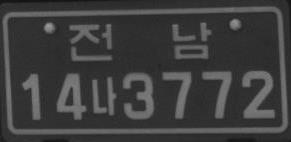1: (19, 72, 46, 121)
2: (241, 69, 276, 119)
3: (121, 70, 154, 121)
4: (55, 71, 87, 121)
7: (161, 70, 193, 119), (201, 70, 233, 119)
나: (90, 75, 117, 117)
전남_D: (69, 21, 212, 62)
